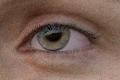eye: (39, 26, 70, 50)
